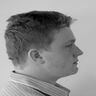ear: (23, 42, 52, 70)
